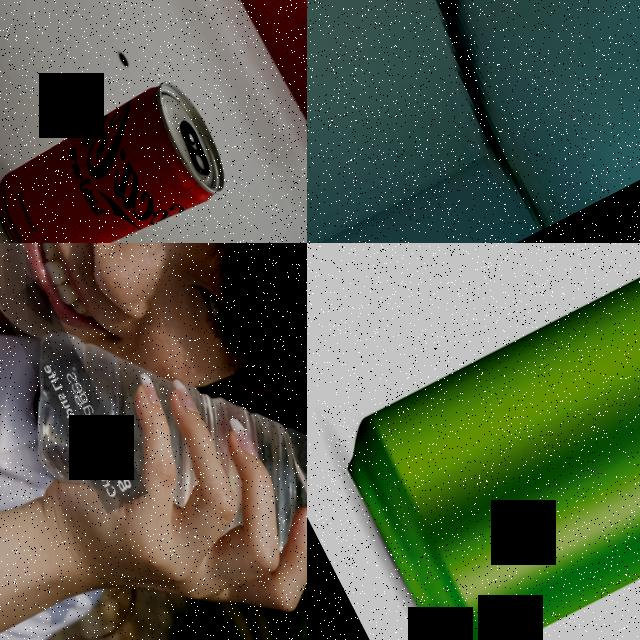bottle: (0, 243, 307, 640)
can: (316, 243, 640, 640), (0, 72, 237, 243)
